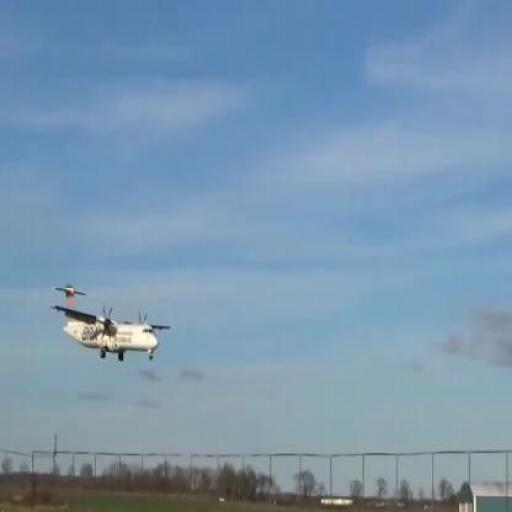aircraft: (44, 281, 176, 368)
